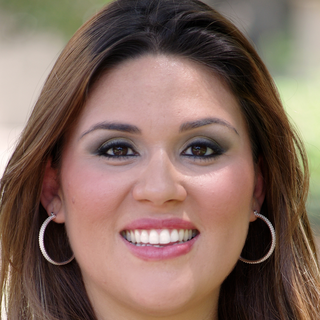eye: (91, 138, 142, 165), (175, 138, 226, 165)
